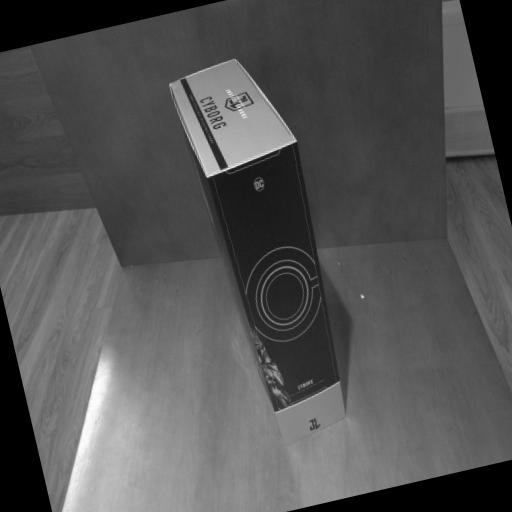Cyborg: (166, 49, 364, 455)
